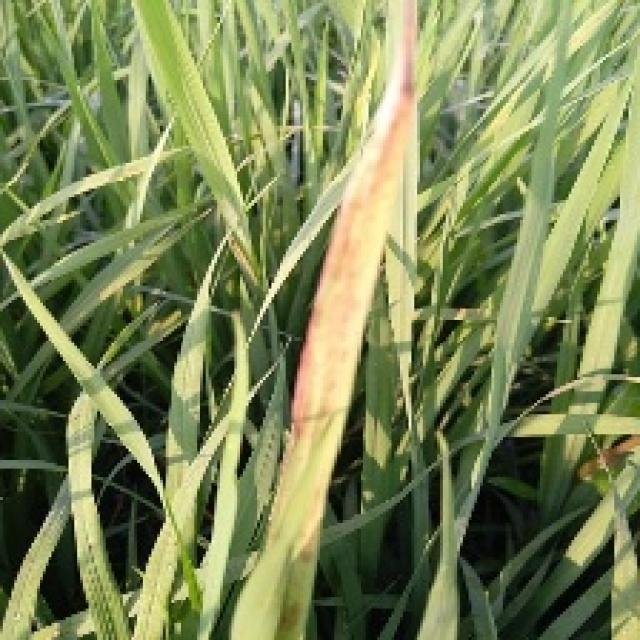Unhealthy: (291, 0, 416, 451)
